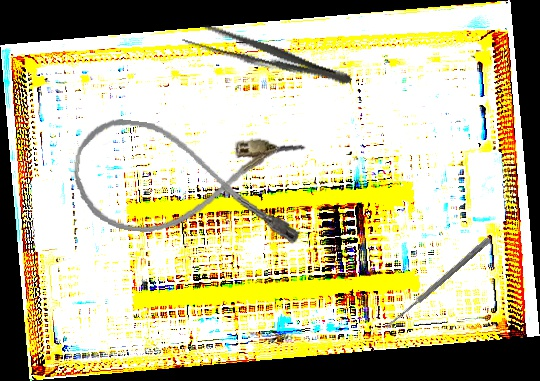Cannula: (66, 114, 311, 251)
Dressing Forceps: (180, 17, 356, 94)
Surgical Spoon: (384, 236, 491, 331)
